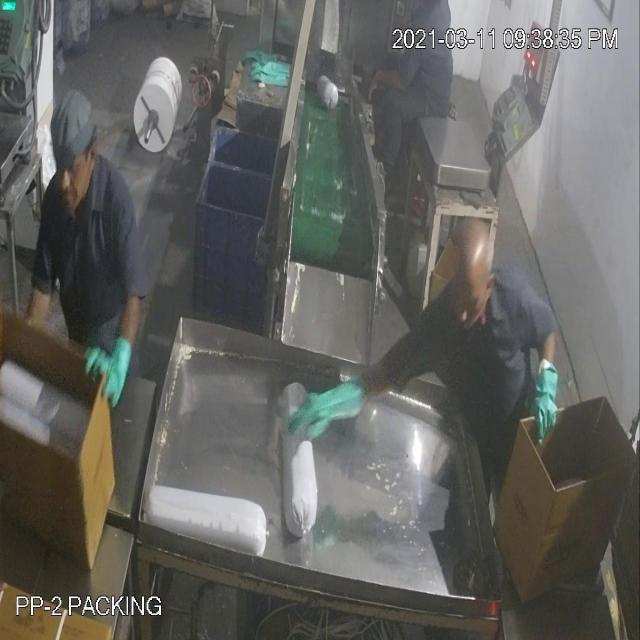Gloves: (28, 78, 548, 402)
